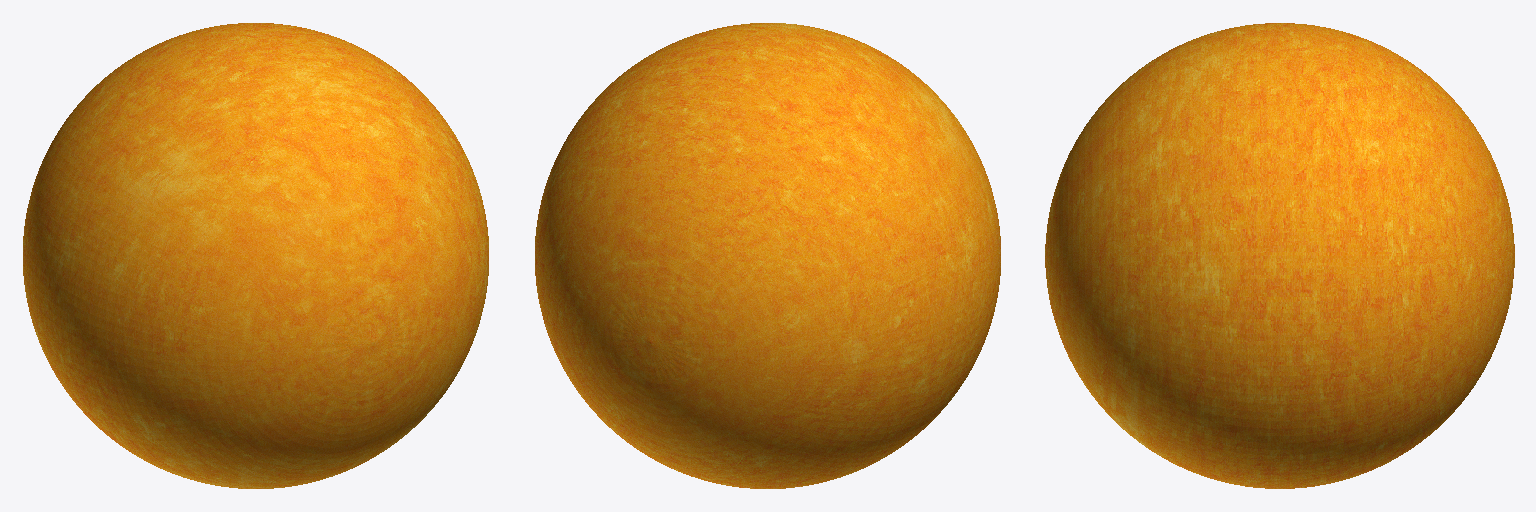
3 views of the same model, side by side, from view 1: azimuth 30°, elevation 25°; view 2: azimuth 150°, elevation 25°; view 3: azimuth 270°, elevation 25° (orthographic).
Parts seen in each view (by area): view 1: sun; view 2: sun; view 3: sun.
Part boxes in pixels (bbox=[...]): sun: bbox=[23, 23, 488, 488]; sun: bbox=[535, 23, 1000, 488]; sun: bbox=[1045, 23, 1514, 488].
Bounding box in the file's own units: 1.12 × 1.12 × 1.13.
1 materials, 1 textured.